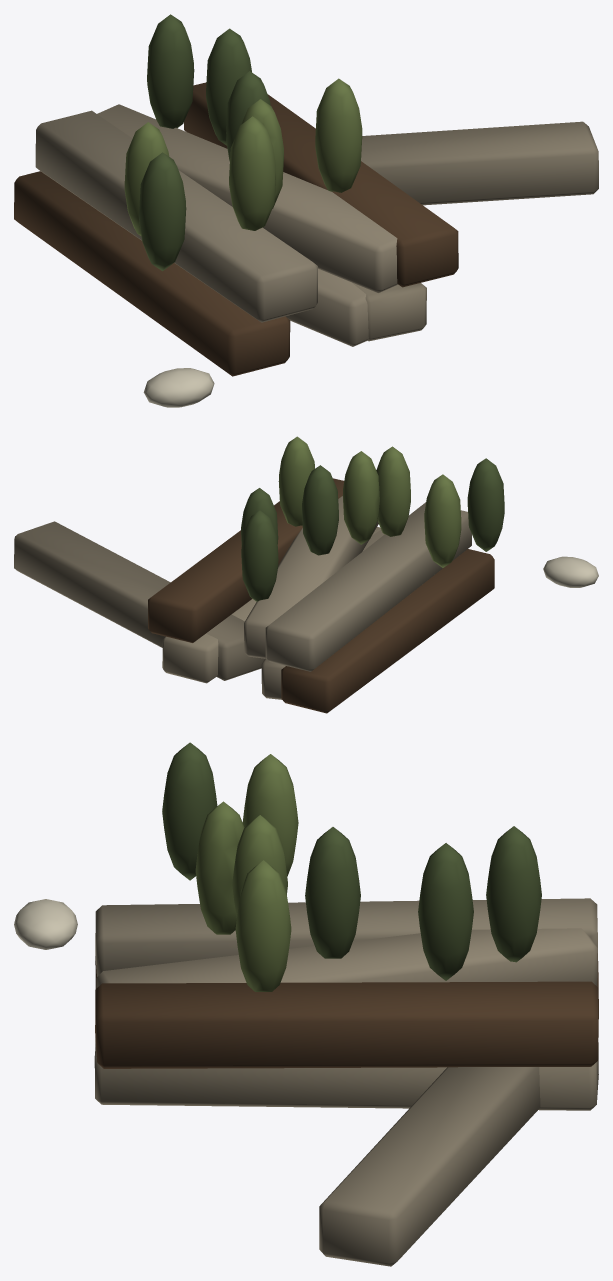
The model's file is timber_ties_c.glb.
3 renders of one model, top to bottom at view 1: azimuth 30°, elevation 25°; view 2: azimuth 150°, elevation 25°; view 3: azimuth 270°, elevation 25°, orthographic. The views are drawn at different scales.
Parts seen in each view (by area): view 1: Surface; view 2: Surface; view 3: Surface.
Boxes of the visible parts, x1,y1,x2,y2 form: Surface: (14, 14, 598, 407); Surface: (14, 436, 598, 713); Surface: (14, 742, 598, 1266).
Size of the model in its own units: 4.73 by 1.57 by 3.5.
